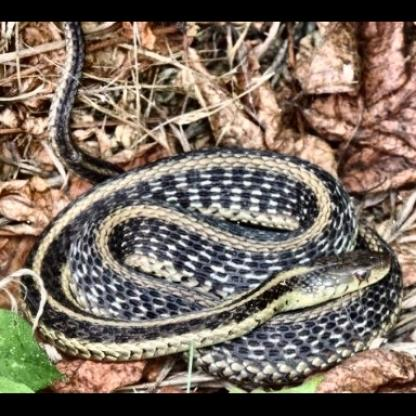Snake: (34, 39, 402, 376)
